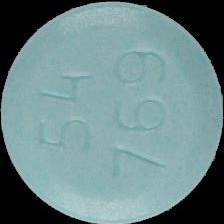54868-5903: (0, 0, 224, 224)
